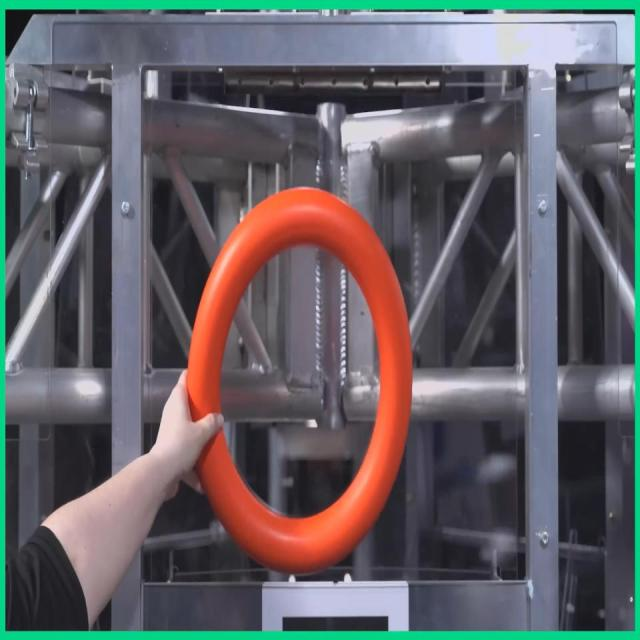note: (186, 184, 413, 571)
